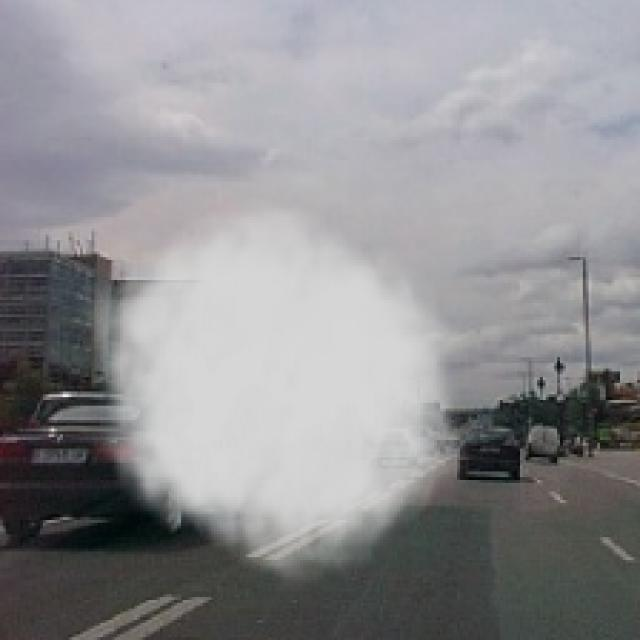Smoke: (74, 186, 469, 592)
